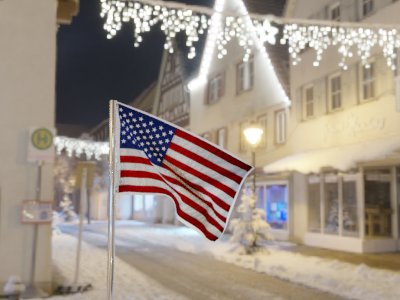America flag: (115, 100, 254, 241)
